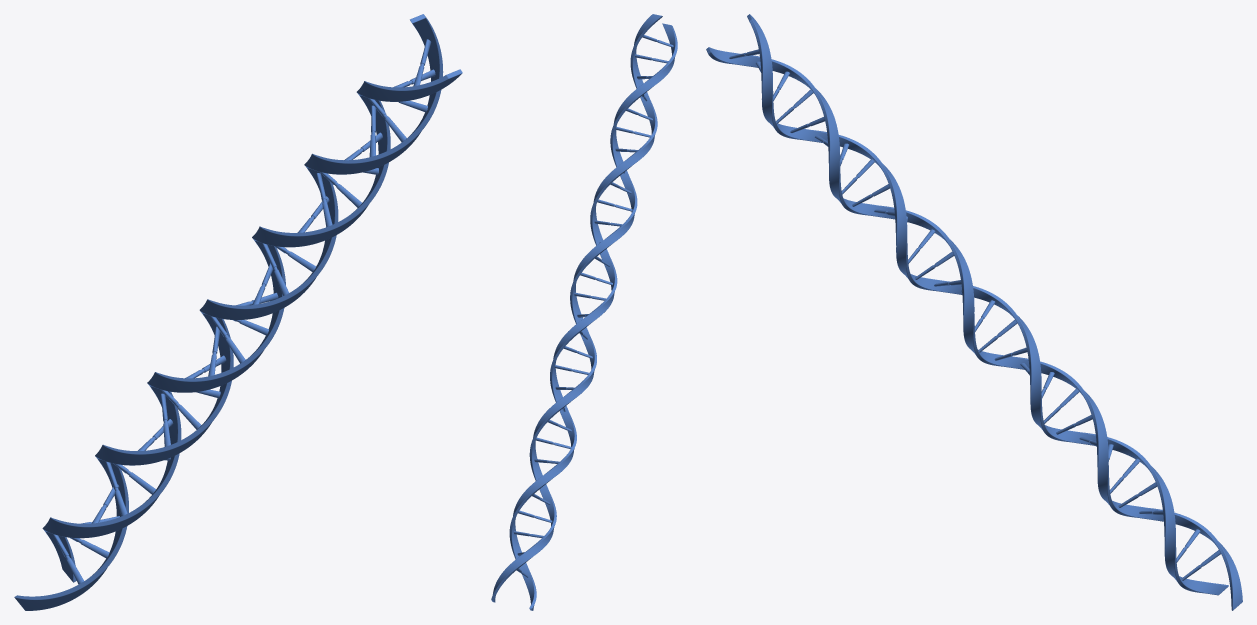
The model's file is DNA Spiral.fbx.
3 renders of one model, left to right at view 1: azimuth 30°, elevation 25°; view 2: azimuth 150°, elevation 25°; view 3: azimuth 270°, elevation 25°, orthographic. The views are drawn at different scales.
Parts seen in each view (by area): view 1: 立方体_1, 立方体; view 2: 立方体, 立方体_1; view 3: 立方体_1, 立方体.
Boxes of the visible parts, bbox=[...] form: 立方体_1: bbox=[14, 14, 443, 610]; 立方体: bbox=[42, 69, 462, 582]; 立方体: bbox=[491, 23, 677, 602]; 立方体_1: bbox=[509, 14, 662, 610]; 立方体_1: bbox=[747, 14, 1228, 595]; 立方体: bbox=[706, 47, 1242, 610].
Bounding box in the file's own units: 434 × 2623 × 2089.
